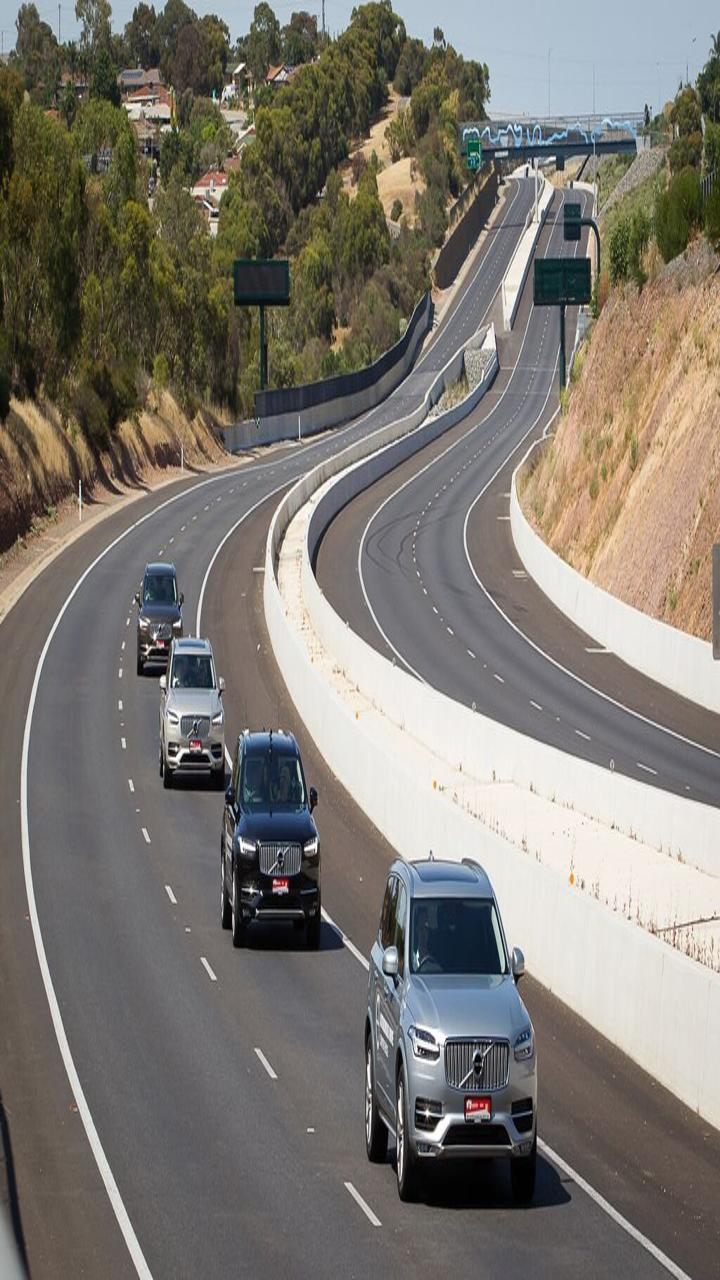vehicle: (347, 828, 543, 1200), (209, 712, 335, 944), (144, 636, 230, 784), (132, 546, 202, 675)
